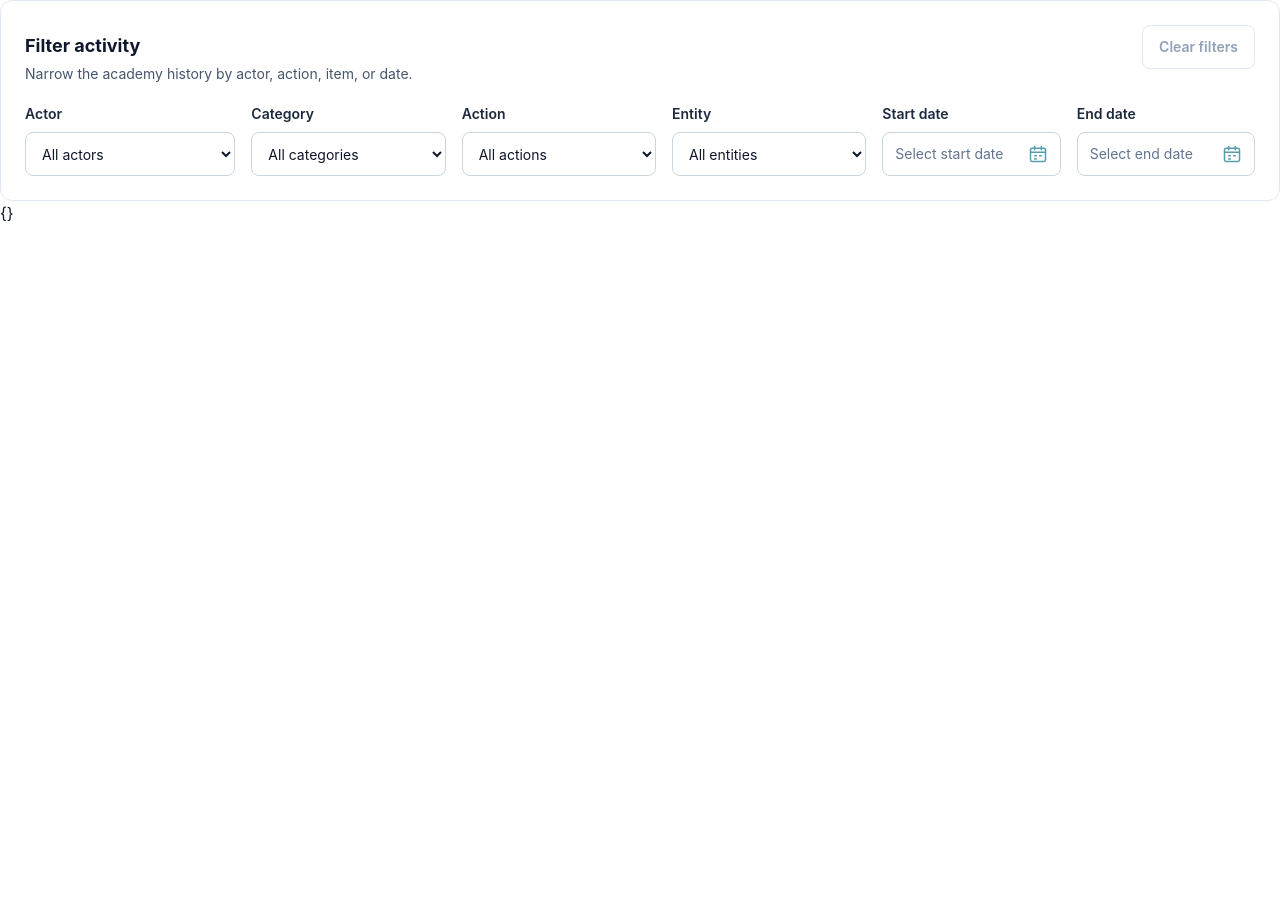
it: BusinessAuditFilters date pickers › opens, selects, and clears a Start date with the shared calendar
Click the button "Select start date": (971, 154) [882,132,1061,176]
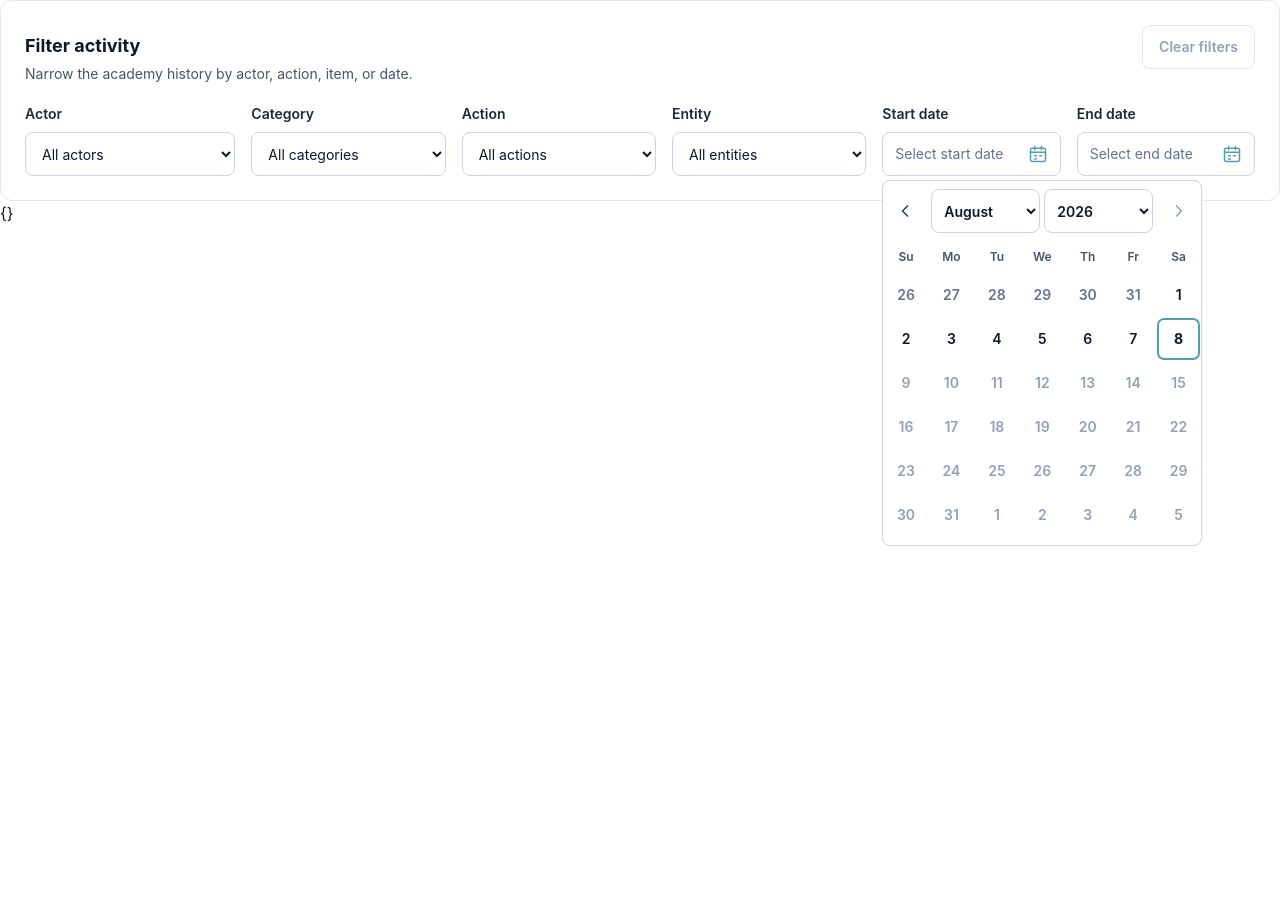
Expected: the dialog named "Choose start date, August 2026" is shown, [882,180,1202,546]
Click the cell named "Saturday, August 1, 2026": (1179, 295) [1156,273,1201,317]
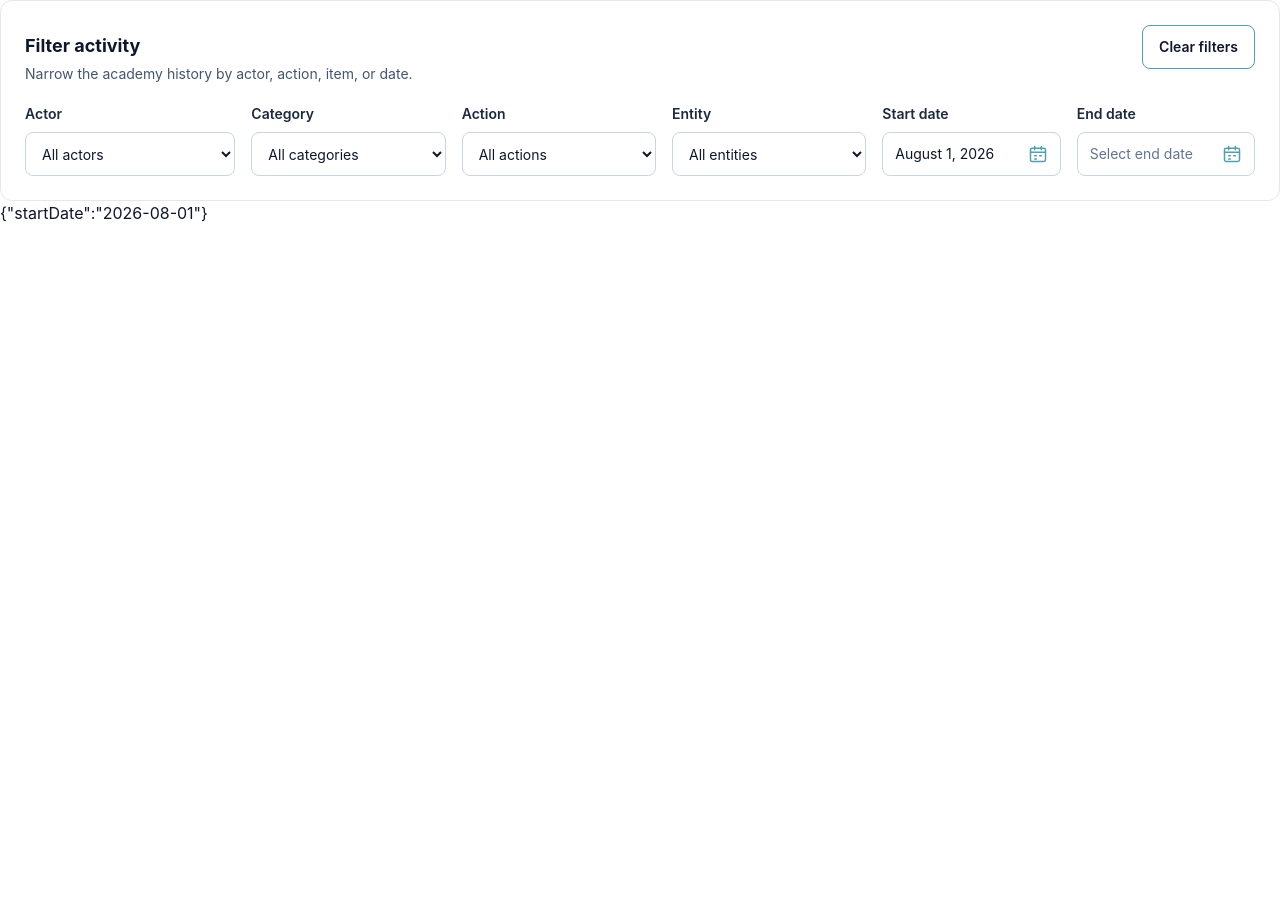
Expected: the button named "Start date" reads "August 1, 2026"
Expected: the text with test id "filter-state" shows "\"startDate\":\"2026-08-01\"", [0,203,208,223]
Click the button named "Start date": (971, 154) [882,132,1061,176]
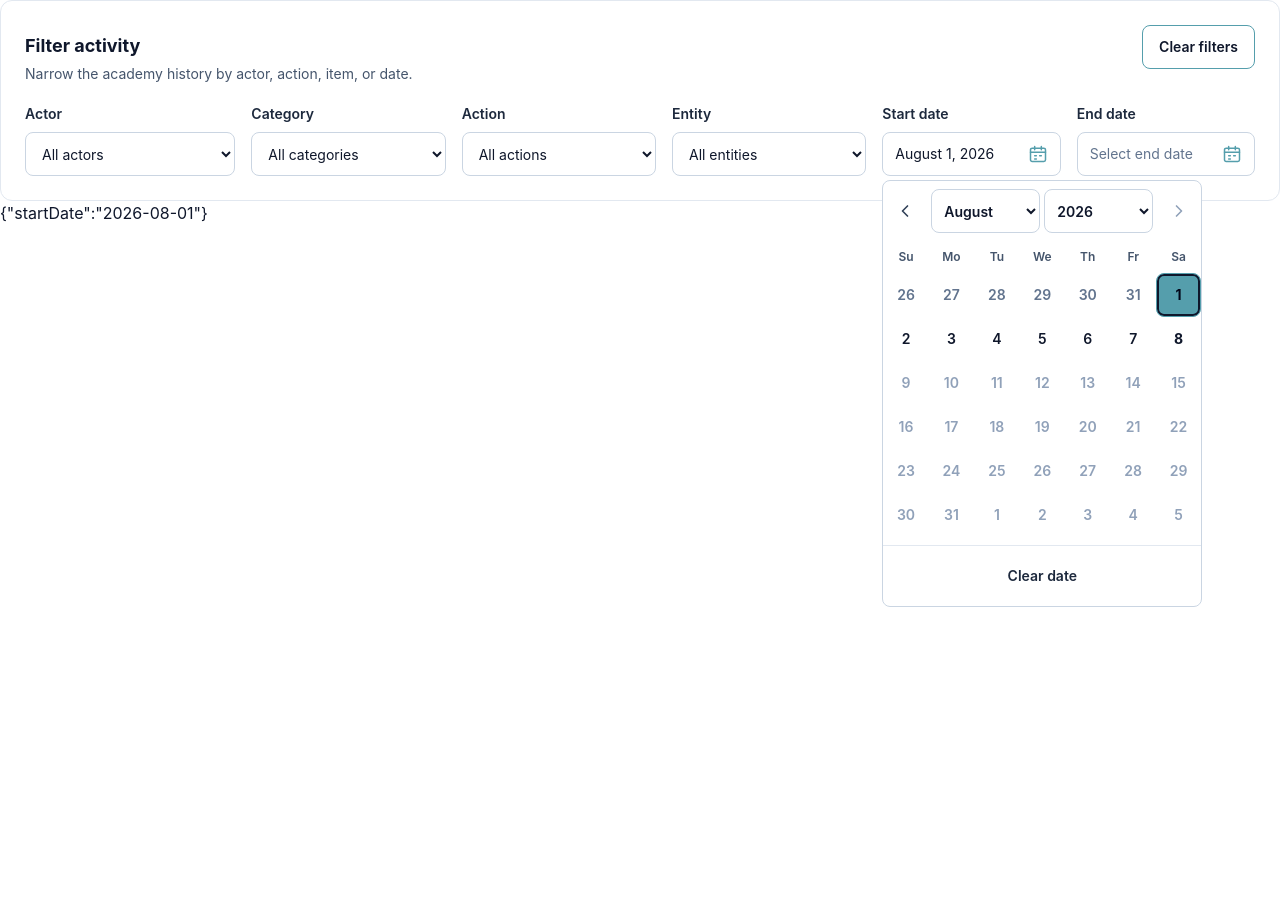
Click the button with aria-label "Clear start date": (1042, 576) [883,554,1201,598]
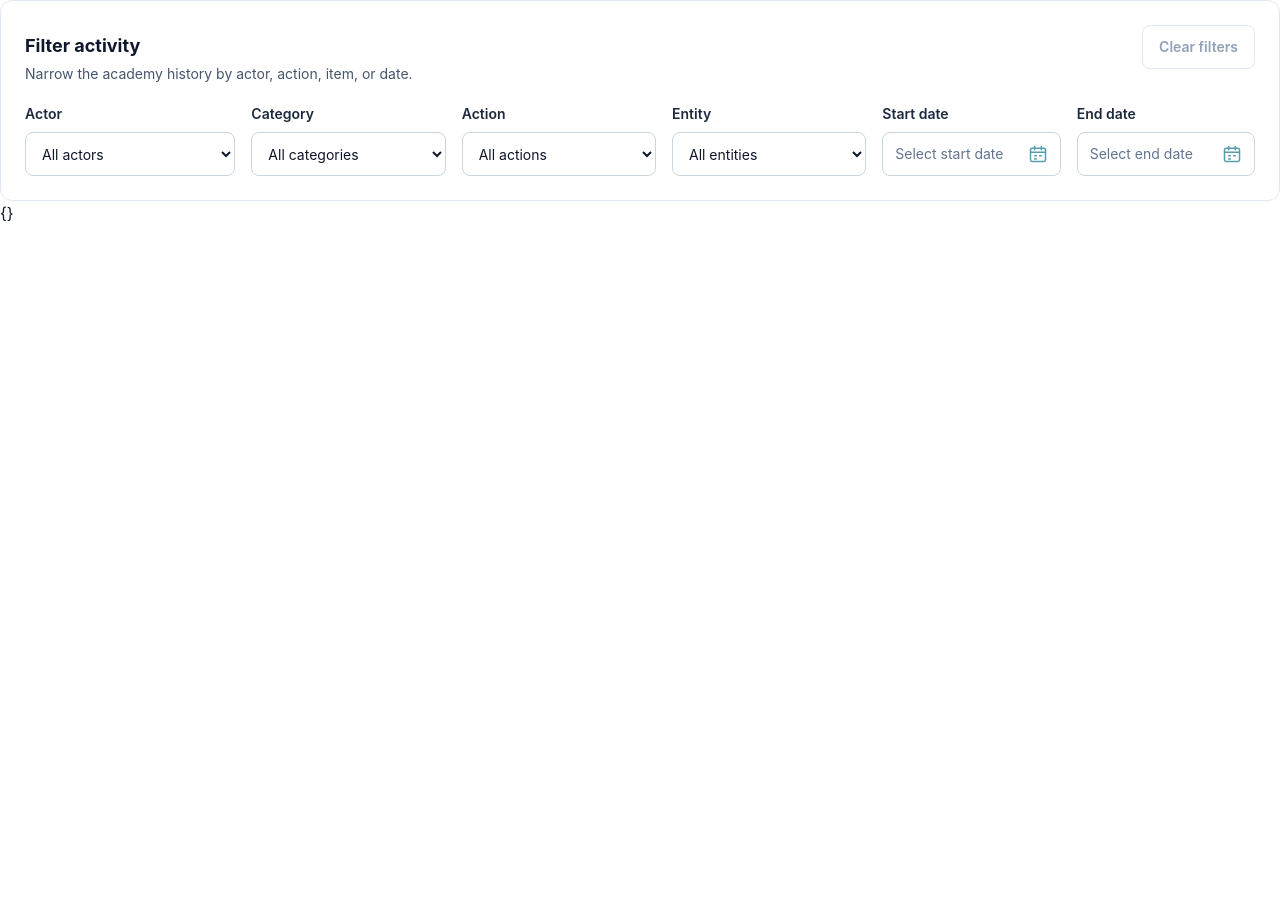
Expected: the button "Select start date" is shown, [882,132,1061,176]
Expected: the text with test id "filter-state" reads "{}", [0,203,14,223]
